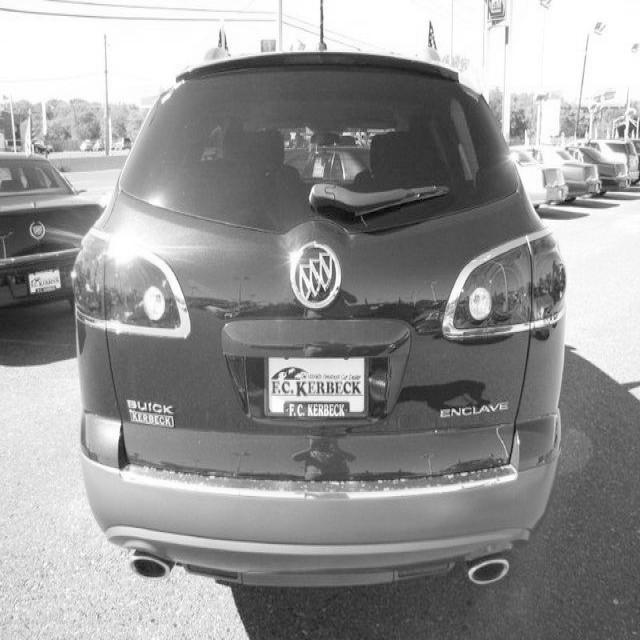car: (71, 29, 568, 590), (0, 149, 106, 311)
